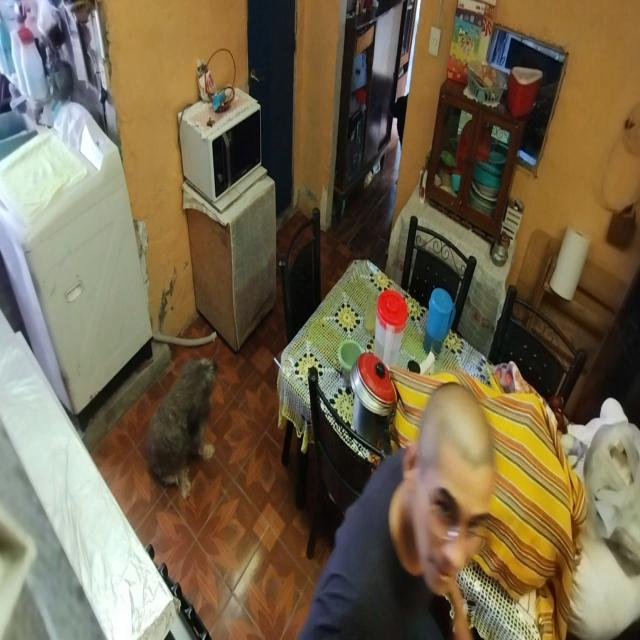adult: (299, 383, 492, 640)
